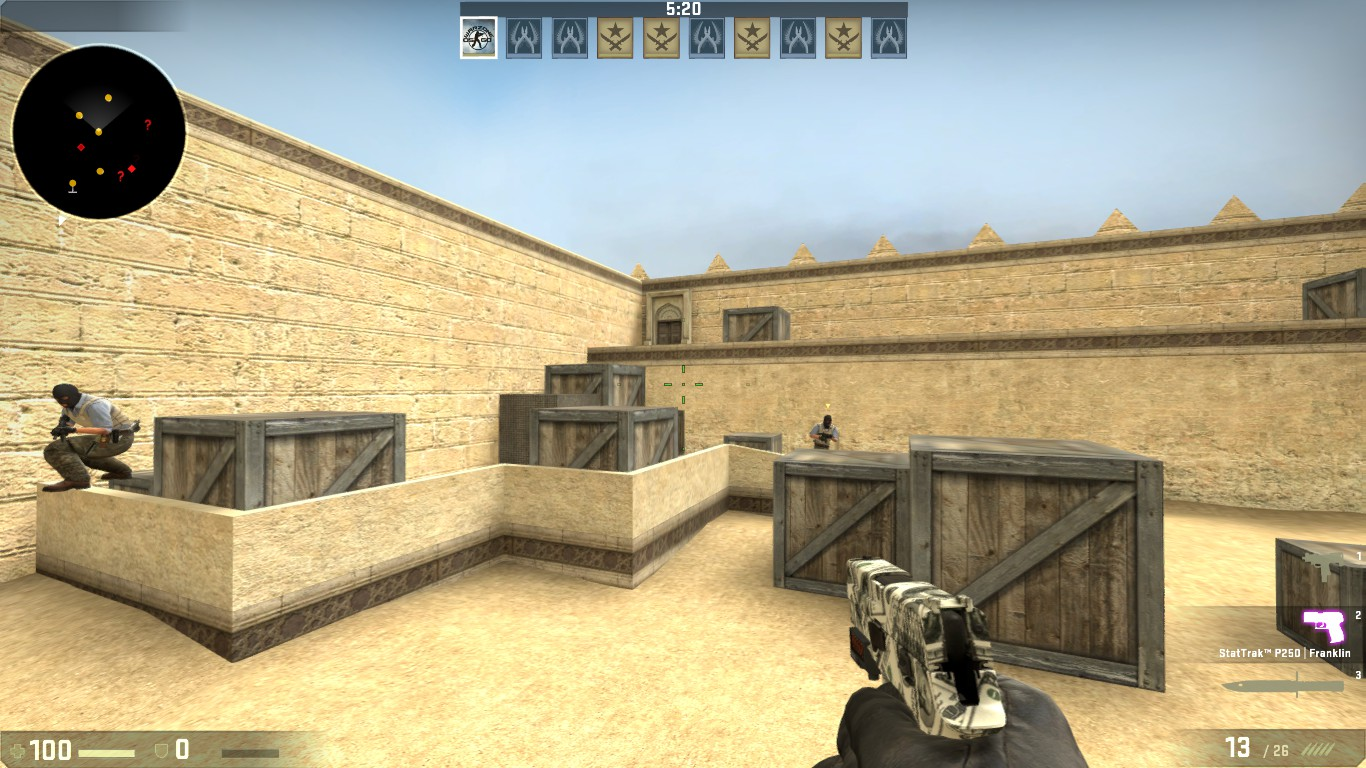t: (38, 378, 136, 494), (809, 414, 838, 450)
th: (48, 382, 83, 410), (822, 414, 833, 430)
